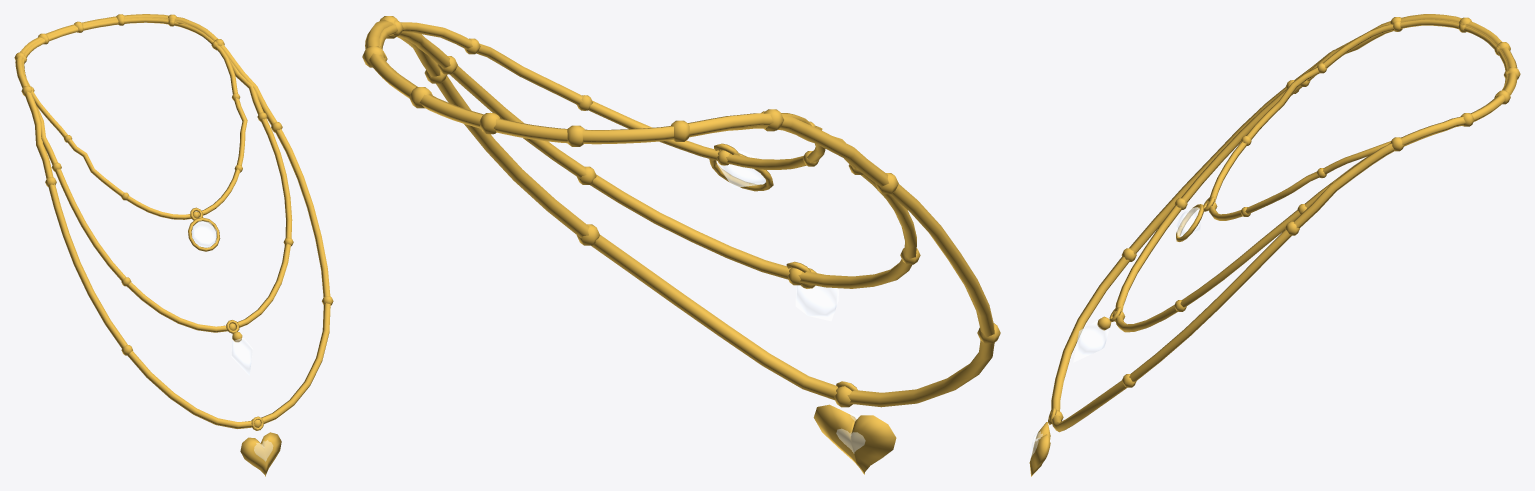
Rendered from layered_gold.glb.
3 views of the same model, side by side, from view 1: azimuth 30°, elevation 25°; view 2: azimuth 150°, elevation 25°; view 3: azimuth 270°, elevation 25° (orthographic). The views are drawn at different scales.
Parts seen in each view (by area): view 1: layered_gold; view 2: layered_gold; view 3: layered_gold.
Part boxes in pixels (<box>): layered_gold: <box>14,14,333,476</box>; layered_gold: <box>362,16,1000,474</box>; layered_gold: <box>1029,14,1520,476</box>.
Size of the model in its own units: 0.1096 by 0.139 by 0.1503.
